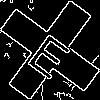E: (25, 25, 79, 81)
